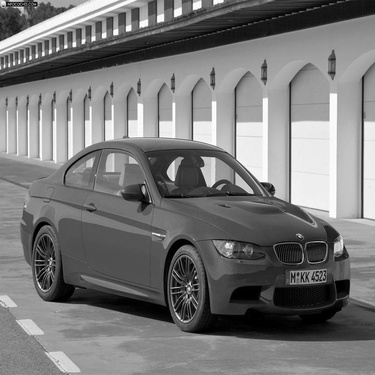car: (9, 123, 355, 337)
